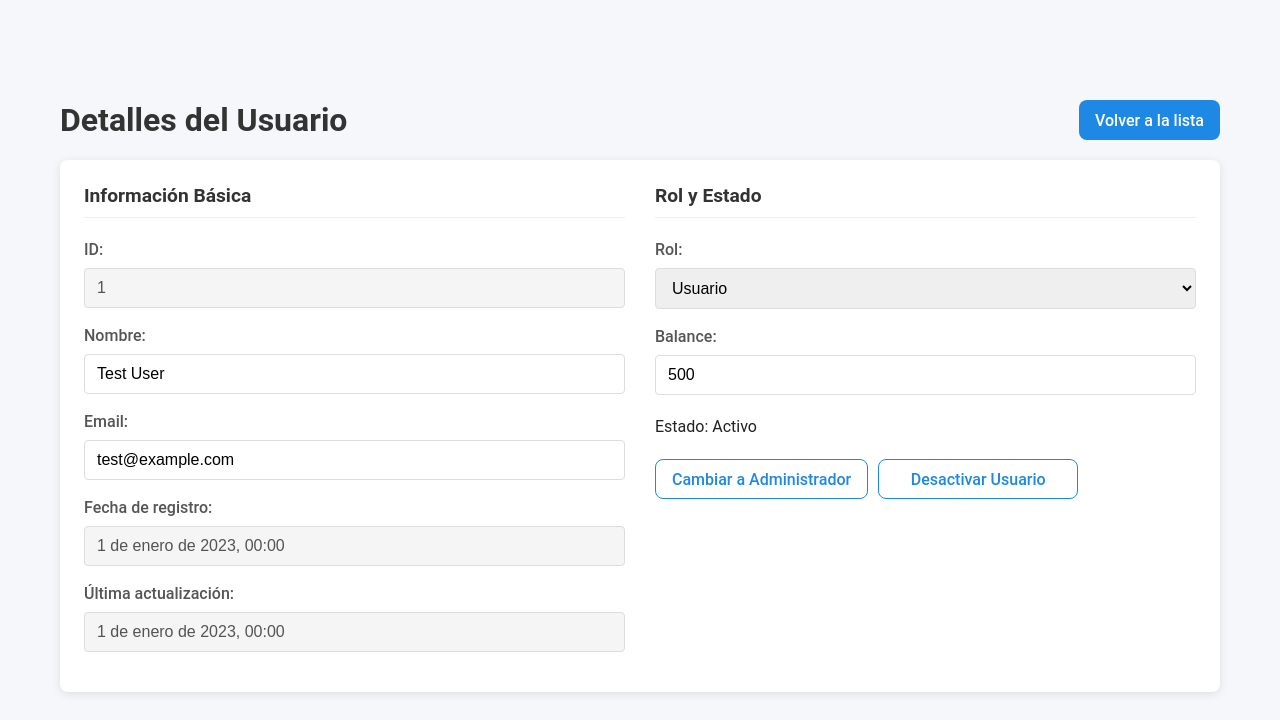
UserDetail Component › updates user name and email when saving changes
Replace the text in the field showing "Test User" with "Updated Name". click: [354, 374]
box: [84, 354, 625, 394]
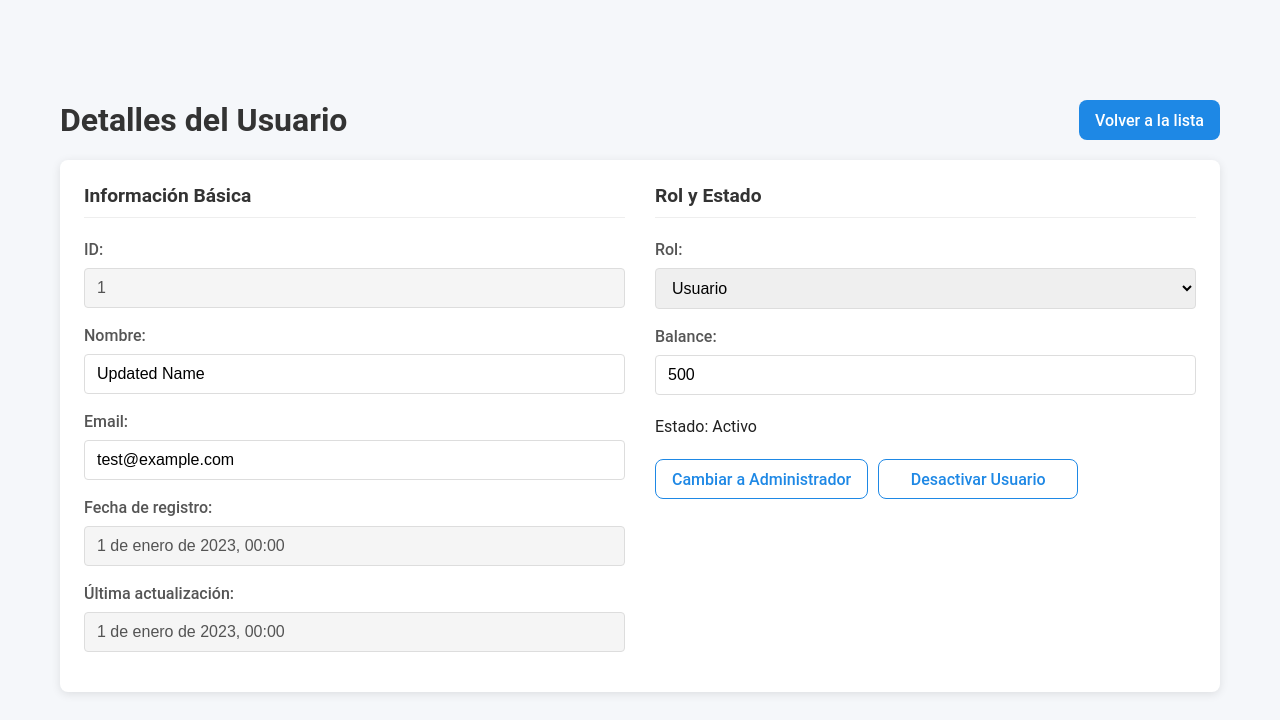
Replace the text in the field showing "test@example.com" with "updated@example.com". click: [354, 460]
box: [84, 440, 625, 480]
(page scrolled)
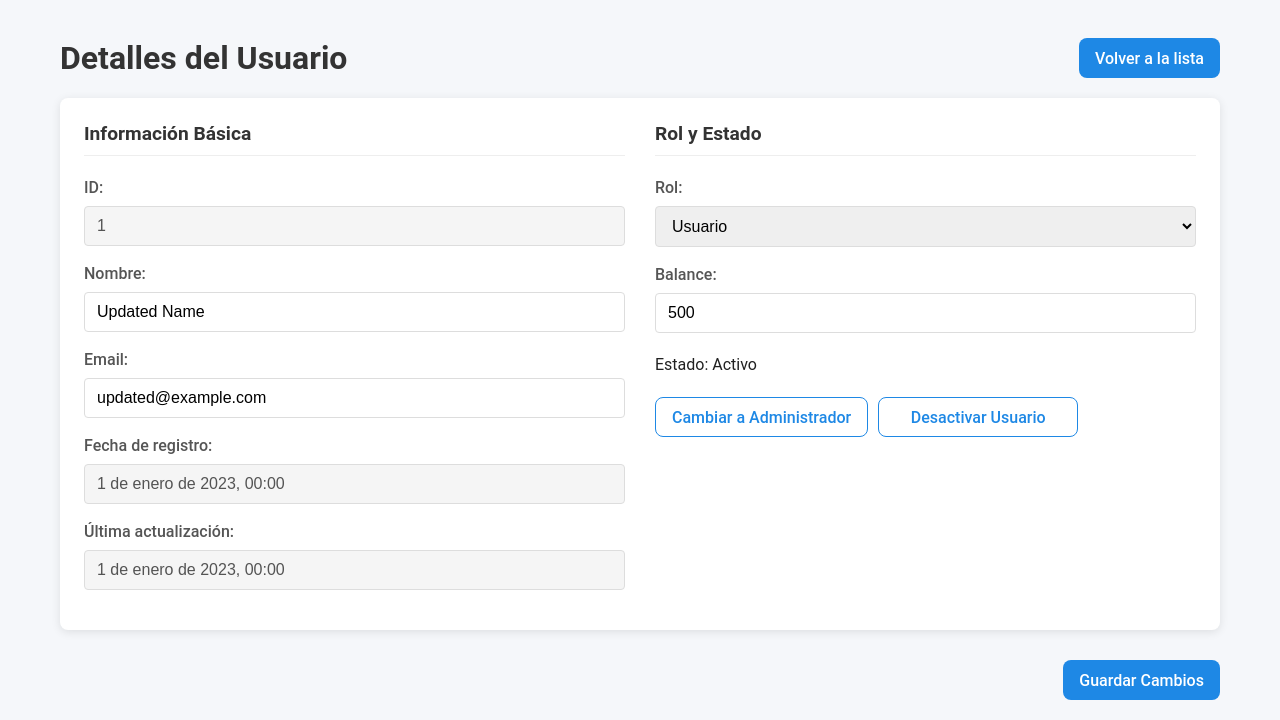
# Guardar los cambios
Click the button "Guardar Cambios". click: [1142, 680]
box: [1063, 660, 1220, 700]
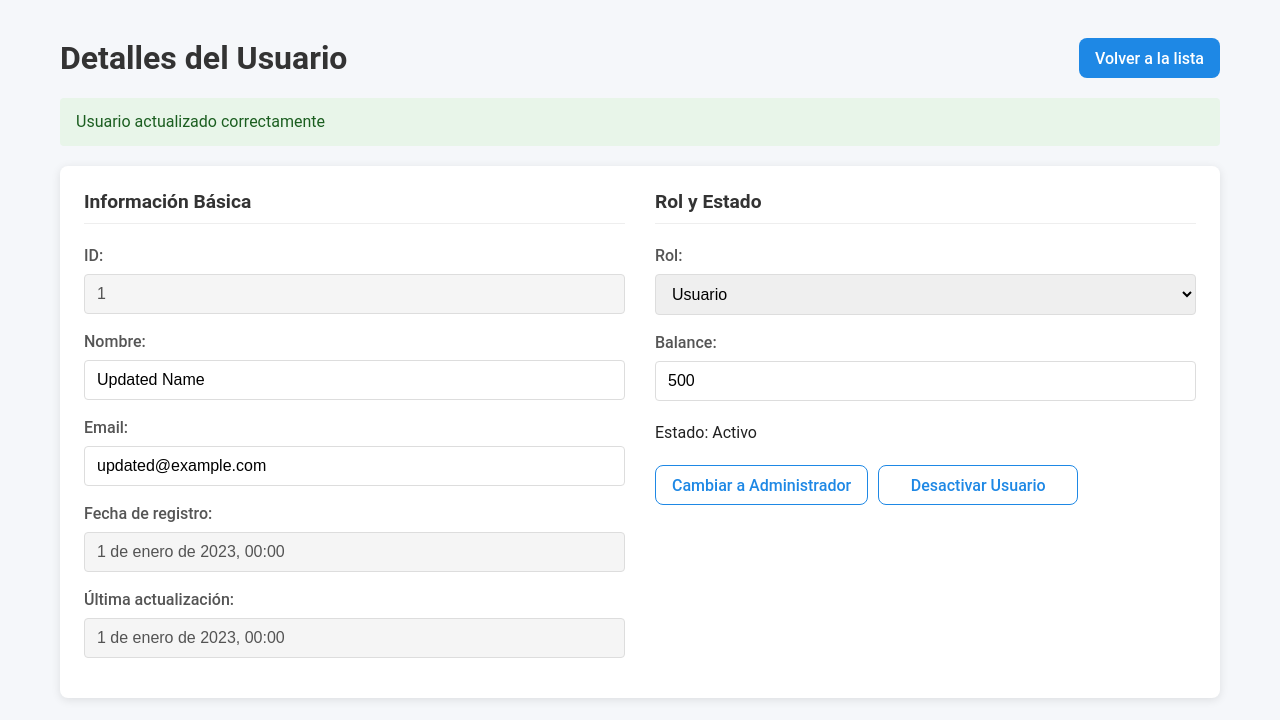
Now the text "Usuario actualizado correctamente" is shown, box [60, 98, 1220, 146]
